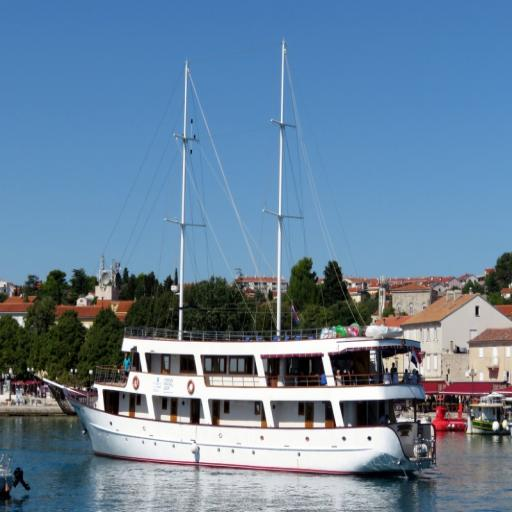cruises: (71, 325, 442, 489)
